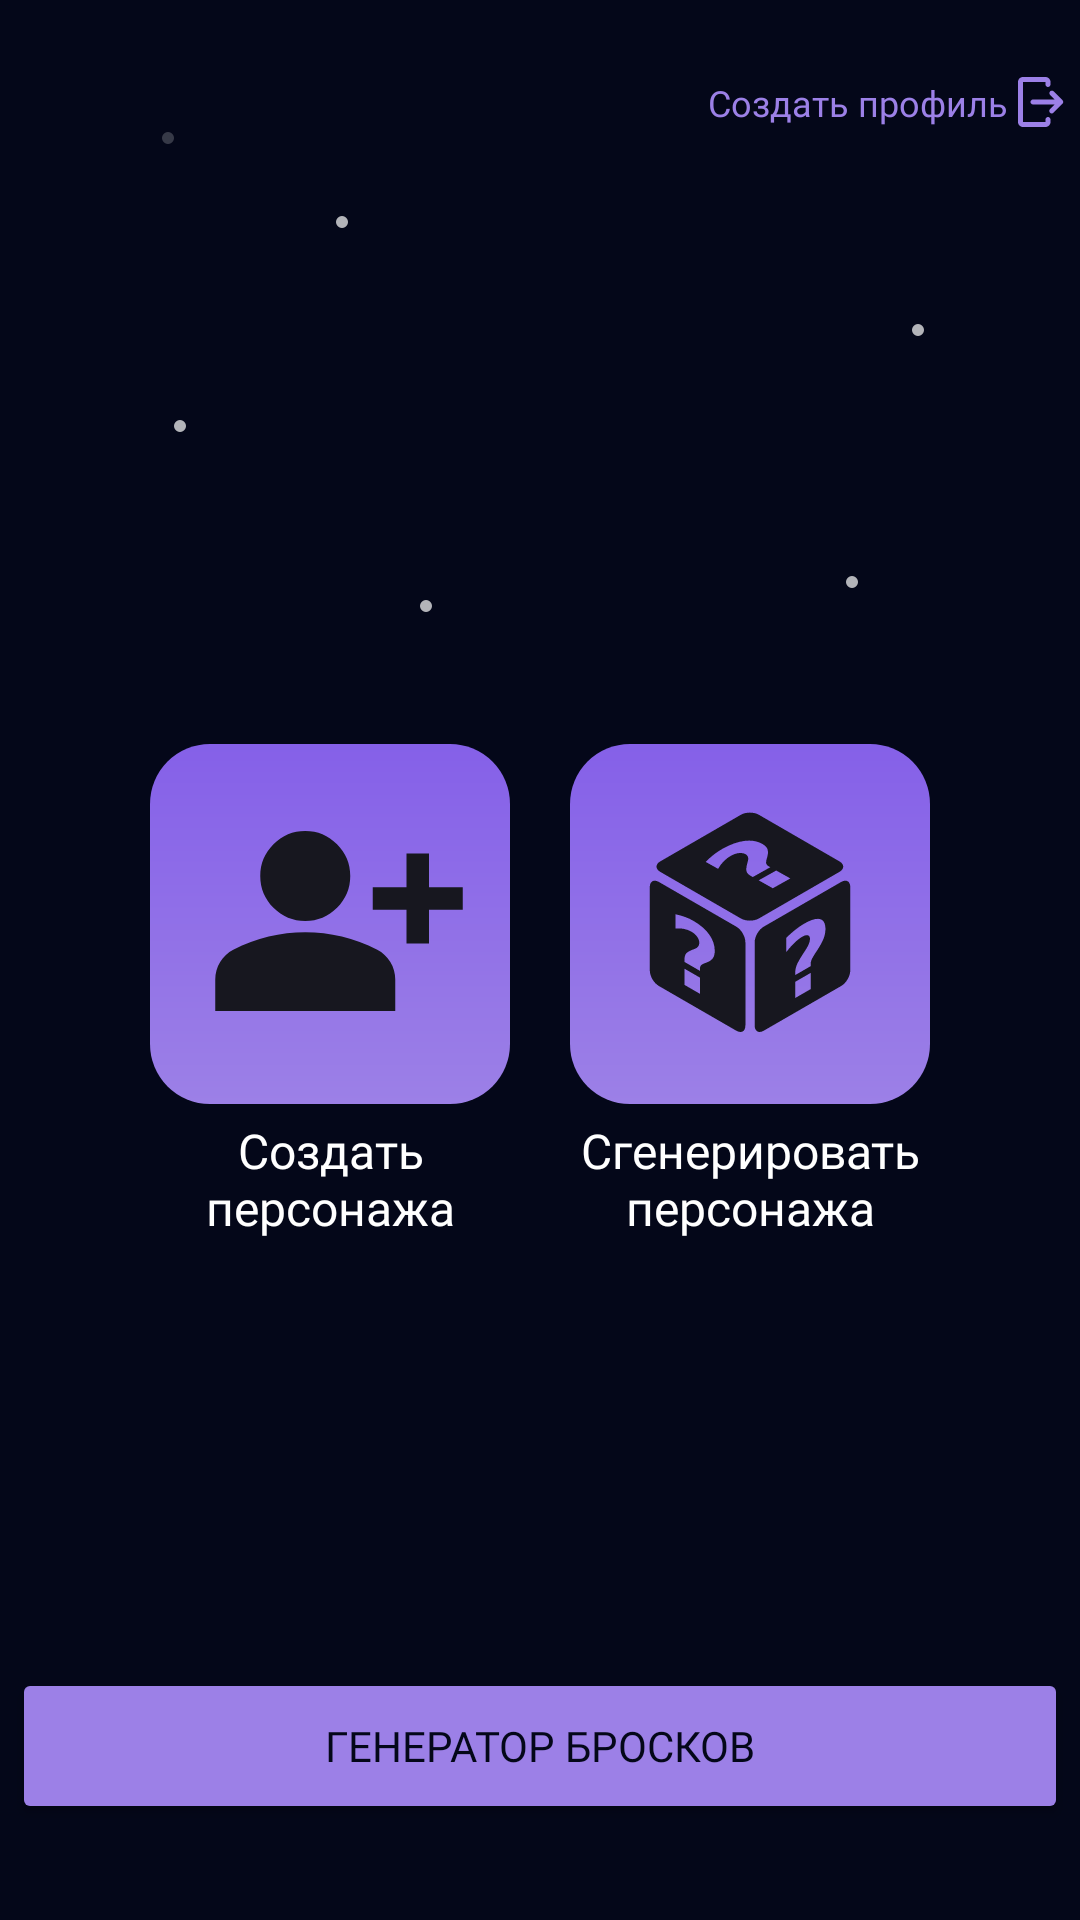

Screen size 1080 × 1920. Icon name, then its box in pixels as {"x1": x1, "y1": y1, "x2": x2, "y2": y2}:
dooricon: {"x1": 1018, "y1": 77, "x2": 1064, "y2": 127}
